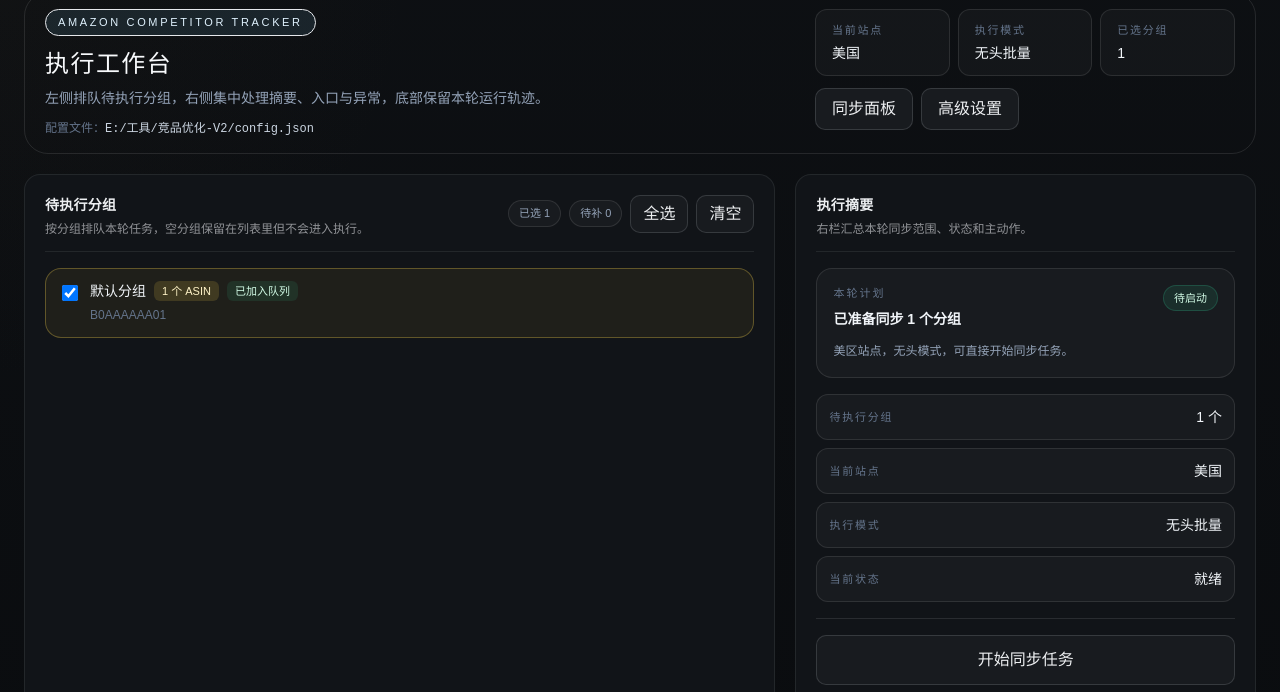
Test: App command center home › 高级设置页为每个站点独立维护邮编与等待参数
Later steps or results of the test are not shown.
Click the tab "高级设置": (970, 108) left=921, top=88, right=1019, bottom=130
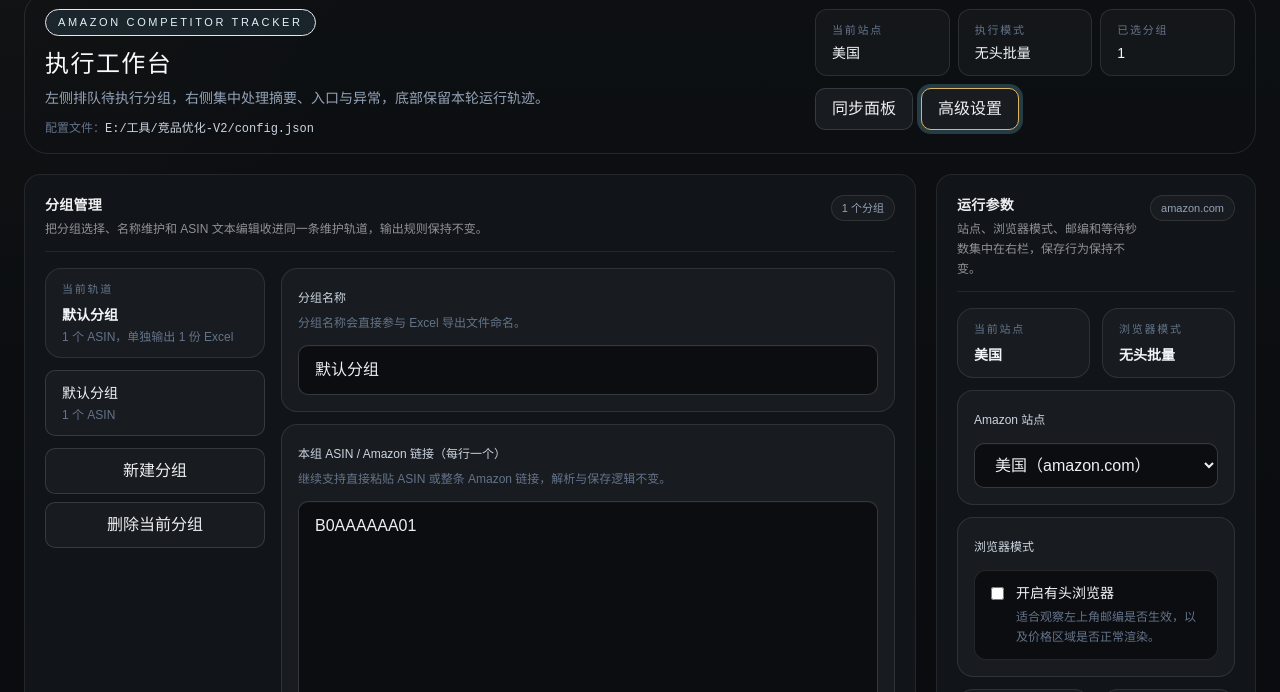
Result: the button "默认分组 1 个 ASIN" is shown at left=45, top=370, right=265, bottom=436
Result: the field labelled "分组名称" is shown at left=298, top=344, right=878, bottom=394
Select "德国（amazon.de）" in the dropdown labelled "Amazon 站点": (1096, 466) left=974, top=443, right=1218, bottom=488
(page scrolled)
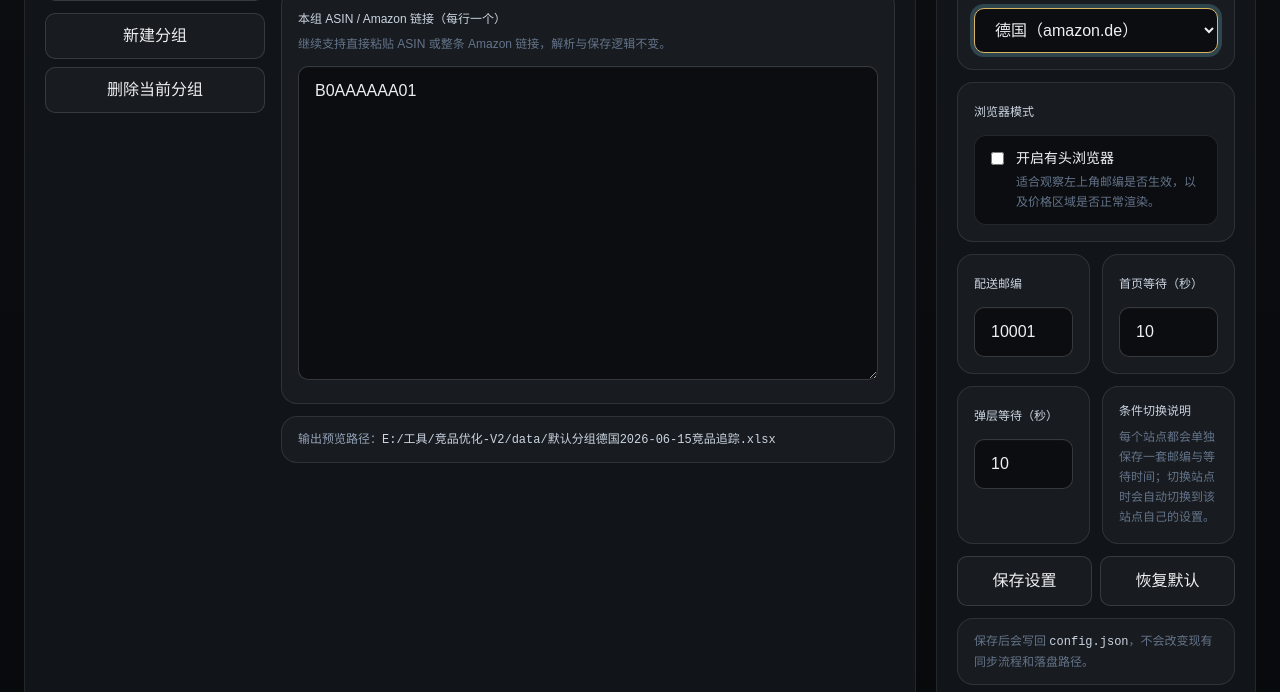
Replace the text in the field labelled "配送邮编" with "10115": (1024, 332) left=974, top=307, right=1073, bottom=357
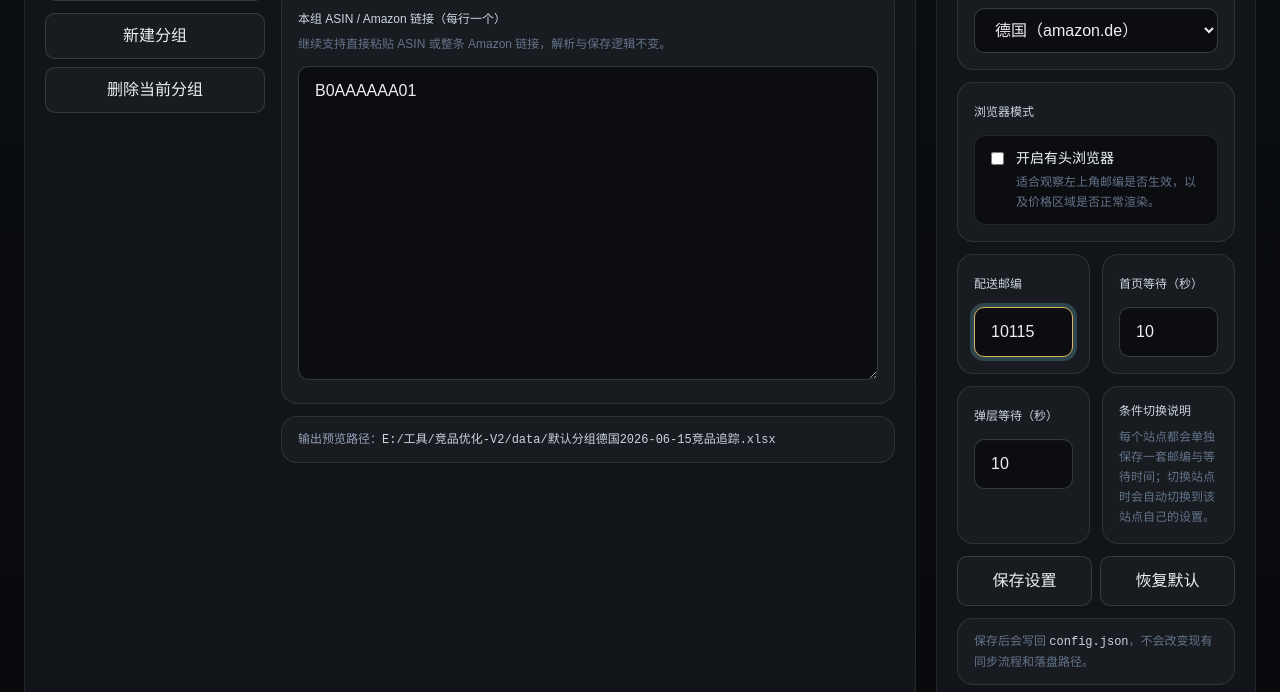
Select "美国（amazon.com）" in the dropdown labelled "Amazon 站点": (1096, 30) left=974, top=8, right=1218, bottom=53
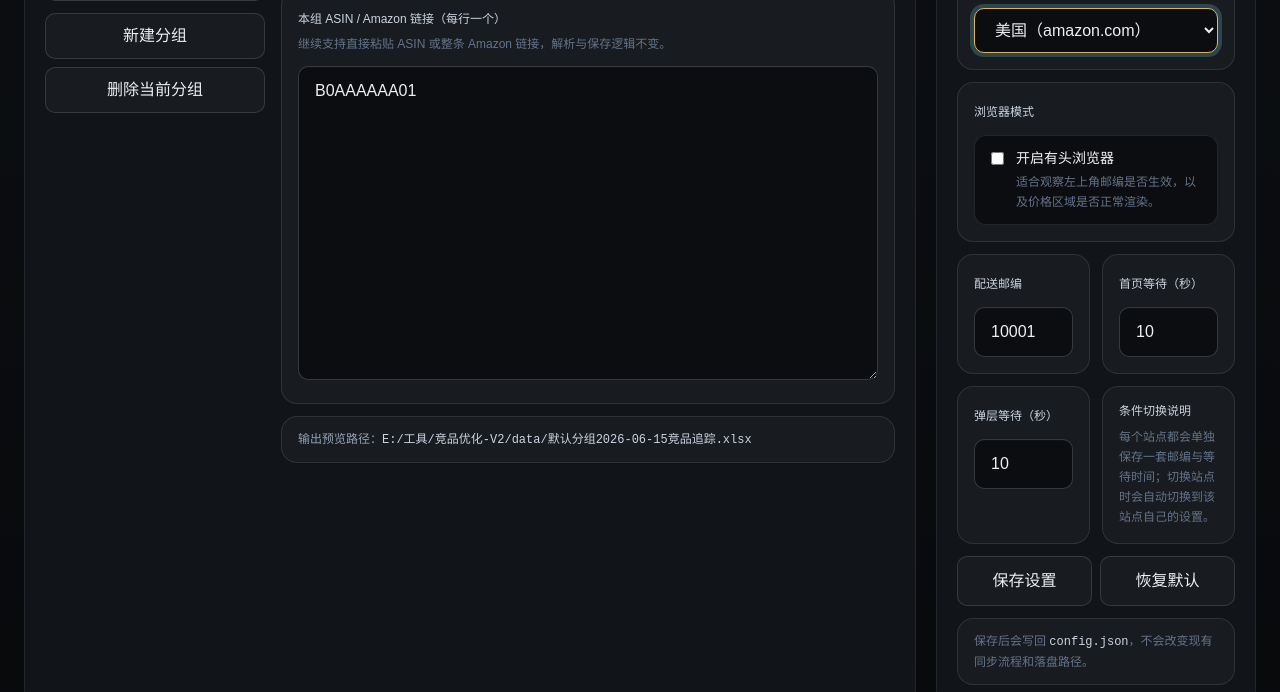
Result: the field labelled "配送邮编" holds "10001" at left=974, top=307, right=1073, bottom=357
